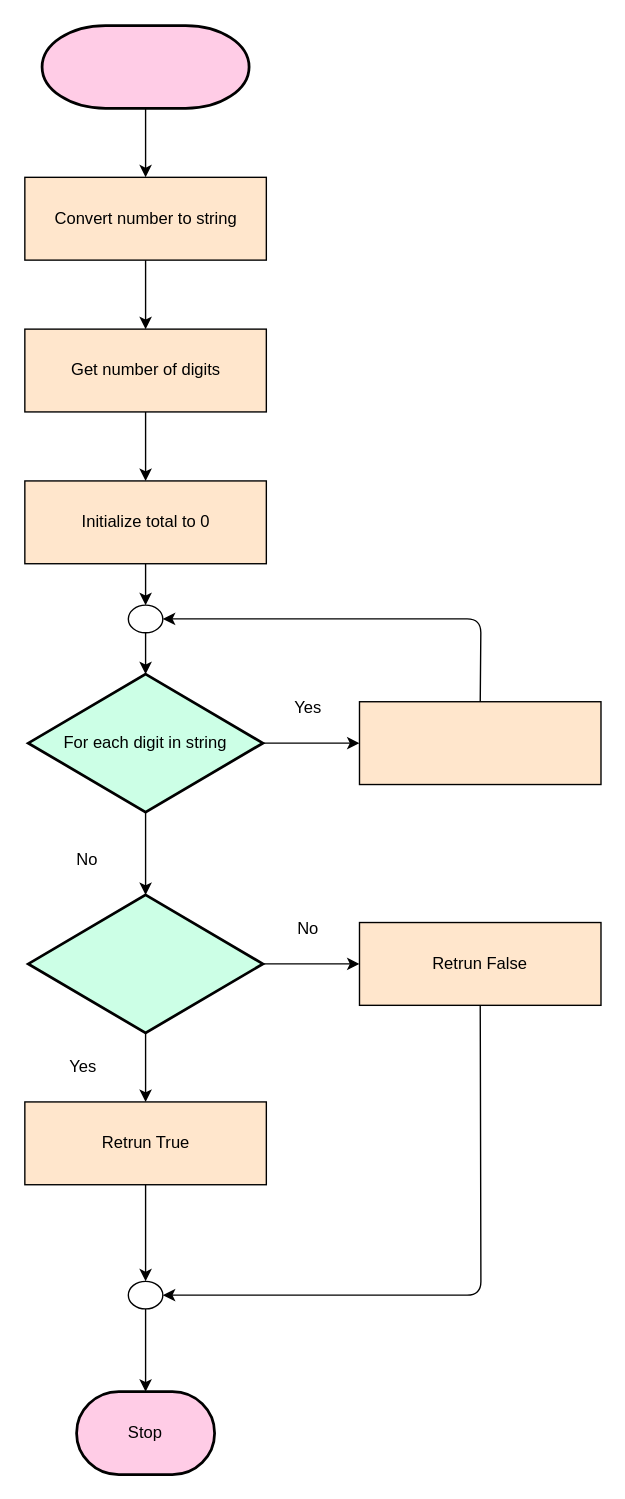
Image size: 625x1499. Some labels were removed from this diagram. Each missing label, with the centre of its shape:
"Add digit num_digits to total" belongs at (x=479, y=742).
"Is total equal to number?" belongs at (x=145, y=963).
"is_armtrong(namber)" belongs at (x=145, y=66).
